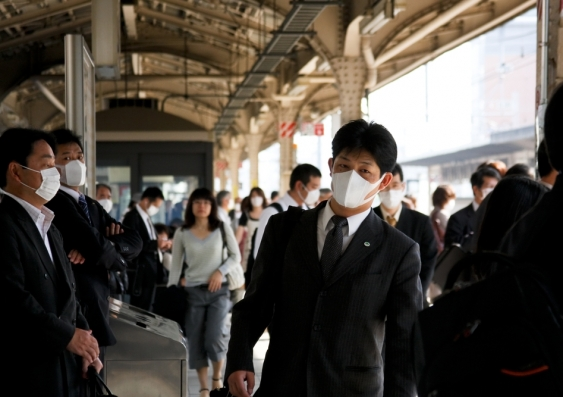mask: (330, 171, 373, 210), (34, 169, 59, 202), (61, 162, 86, 187)
